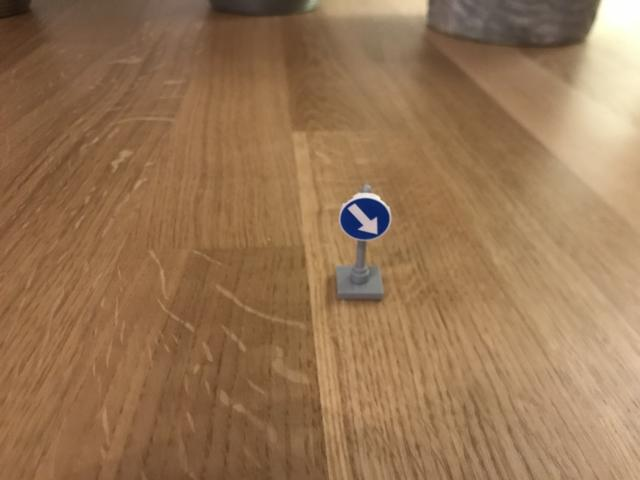rechts halten: (339, 194, 393, 244)
